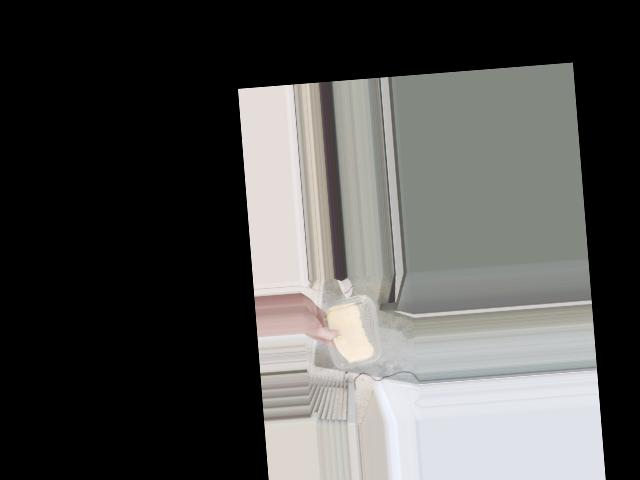cheese: (321, 294, 377, 369)
